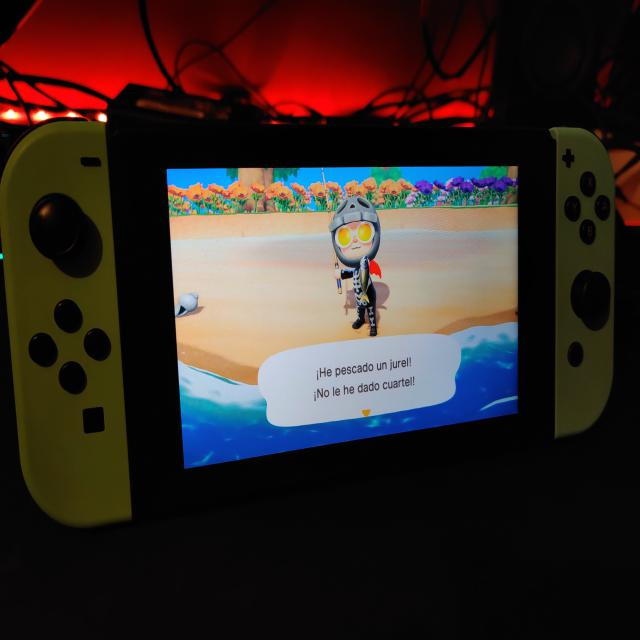text_bubble: (259, 332, 462, 431)
